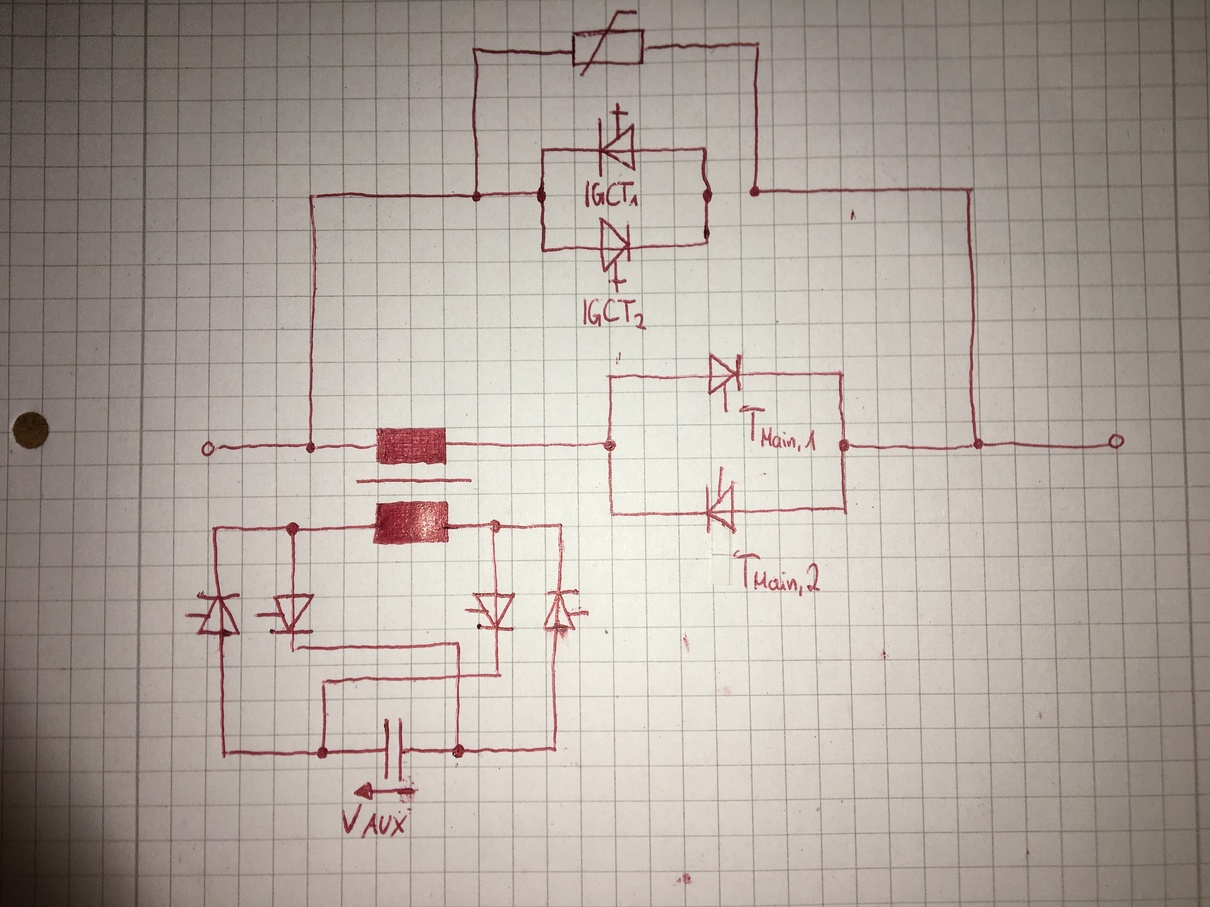capacitor.unpolarized: (379, 713, 407, 784)
crossover: (452, 670, 467, 684)
junction: (284, 520, 302, 537), (487, 517, 503, 535), (451, 742, 467, 760), (602, 437, 619, 453), (837, 437, 853, 454), (315, 745, 331, 761), (970, 437, 987, 452), (535, 186, 548, 204), (748, 185, 763, 199), (470, 189, 484, 204), (304, 440, 317, 455), (548, 741, 561, 755), (555, 519, 568, 532), (835, 367, 848, 380), (219, 747, 232, 760), (318, 676, 331, 689), (839, 502, 851, 516), (962, 183, 976, 195), (288, 644, 304, 654), (538, 245, 551, 257), (701, 236, 713, 248), (537, 145, 549, 157), (306, 191, 318, 203), (492, 669, 505, 680), (751, 38, 764, 49), (210, 523, 221, 534), (452, 638, 464, 648), (605, 371, 616, 381), (608, 510, 619, 520), (469, 45, 480, 54), (700, 144, 709, 154)
terminal: (198, 436, 221, 458), (1106, 429, 1126, 452)
text: (731, 547, 823, 598), (737, 403, 818, 454), (339, 801, 408, 839), (581, 295, 650, 332), (583, 178, 640, 209)
thyristor: (596, 103, 638, 179), (188, 590, 246, 639), (597, 215, 635, 288), (266, 590, 318, 638), (468, 589, 517, 634), (703, 478, 739, 538), (706, 350, 745, 405), (542, 588, 581, 634)
transformer: (355, 426, 474, 547)
varistor: (569, 7, 649, 78)
